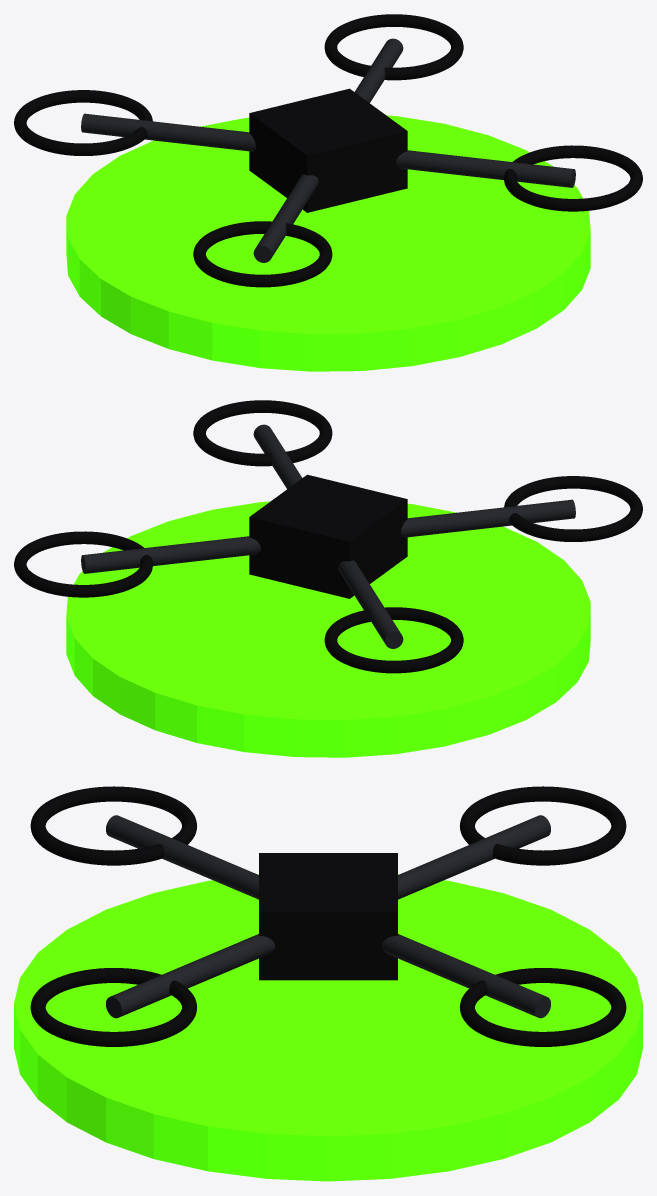
Rendered from tech_drone.dae.
3 views of the same model, one above another, from view 1: azimuth 30°, elevation 25°; view 2: azimuth 150°, elevation 25°; view 3: azimuth 270°, elevation 25° (orthographic). The views are drawn at different scales.
Visible parts, largest first — view 1: 08_07_Popular_Tech_Drone_ROOT_base, 08_07_Popular_Tech_Drone_part_01, 08_07_Popular_Tech_Drone_part_03, 08_07_Popular_Tech_Drone_part_09, 08_07_Popular_Tech_Drone_part_05, 08_07_Popular_Tech_Drone_part_07, 08_07_Popular_Tech_Drone_part_08, 08_07_Popular_Tech_Drone_part_02, 08_07_Popular_Tech_Drone_part_06, 08_07_Popular_Tech_Drone_part_04; view 2: 08_07_Popular_Tech_Drone_ROOT_base, 08_07_Popular_Tech_Drone_part_01, 08_07_Popular_Tech_Drone_part_07, 08_07_Popular_Tech_Drone_part_05, 08_07_Popular_Tech_Drone_part_09, 08_07_Popular_Tech_Drone_part_03, 08_07_Popular_Tech_Drone_part_04, 08_07_Popular_Tech_Drone_part_06, 08_07_Popular_Tech_Drone_part_02, 08_07_Popular_Tech_Drone_part_08; view 3: 08_07_Popular_Tech_Drone_ROOT_base, 08_07_Popular_Tech_Drone_part_01, 08_07_Popular_Tech_Drone_part_03, 08_07_Popular_Tech_Drone_part_07, 08_07_Popular_Tech_Drone_part_05, 08_07_Popular_Tech_Drone_part_09, 08_07_Popular_Tech_Drone_part_04, 08_07_Popular_Tech_Drone_part_08, 08_07_Popular_Tech_Drone_part_02, 08_07_Popular_Tech_Drone_part_06.
Part boxes in pixels (bbox=[...]): 08_07_Popular_Tech_Drone_ROOT_base: bbox=[66, 115, 590, 371]; 08_07_Popular_Tech_Drone_part_01: bbox=[249, 88, 407, 212]; 08_07_Popular_Tech_Drone_part_03: bbox=[14, 90, 152, 155]; 08_07_Popular_Tech_Drone_part_09: bbox=[504, 145, 642, 211]; 08_07_Popular_Tech_Drone_part_05: bbox=[324, 14, 463, 80]; 08_07_Popular_Tech_Drone_part_07: bbox=[193, 221, 332, 287]; 08_07_Popular_Tech_Drone_part_08: bbox=[396, 150, 575, 187]; 08_07_Popular_Tech_Drone_part_02: bbox=[81, 113, 255, 151]; 08_07_Popular_Tech_Drone_part_06: bbox=[253, 174, 318, 262]; 08_07_Popular_Tech_Drone_part_04: bbox=[355, 38, 403, 102]; 08_07_Popular_Tech_Drone_ROOT_base: bbox=[66, 501, 590, 757]; 08_07_Popular_Tech_Drone_part_01: bbox=[249, 474, 407, 598]; 08_07_Popular_Tech_Drone_part_07: bbox=[504, 476, 642, 541]; 08_07_Popular_Tech_Drone_part_05: bbox=[14, 531, 152, 597]; 08_07_Popular_Tech_Drone_part_09: bbox=[193, 400, 332, 466]; 08_07_Popular_Tech_Drone_part_03: bbox=[324, 607, 463, 673]; 08_07_Popular_Tech_Drone_part_04: bbox=[81, 536, 260, 573]; 08_07_Popular_Tech_Drone_part_06: bbox=[401, 499, 575, 537]; 08_07_Popular_Tech_Drone_part_02: bbox=[338, 560, 403, 648]; 08_07_Popular_Tech_Drone_part_08: bbox=[253, 424, 301, 488]; 08_07_Popular_Tech_Drone_ROOT_base: bbox=[14, 874, 642, 1181]; 08_07_Popular_Tech_Drone_part_01: bbox=[259, 853, 397, 980]; 08_07_Popular_Tech_Drone_part_03: bbox=[460, 786, 626, 865]; 08_07_Popular_Tech_Drone_part_07: bbox=[30, 786, 196, 865]; 08_07_Popular_Tech_Drone_part_05: bbox=[460, 968, 626, 1046]; 08_07_Popular_Tech_Drone_part_09: bbox=[30, 968, 196, 1046]; 08_07_Popular_Tech_Drone_part_04: bbox=[382, 934, 550, 1018]; 08_07_Popular_Tech_Drone_part_08: bbox=[106, 934, 274, 1018]; 08_07_Popular_Tech_Drone_part_02: bbox=[398, 815, 550, 899]; 08_07_Popular_Tech_Drone_part_06: bbox=[106, 815, 258, 899].
Size of the model in its own units: 0.76 by 0.2215 by 0.76.
